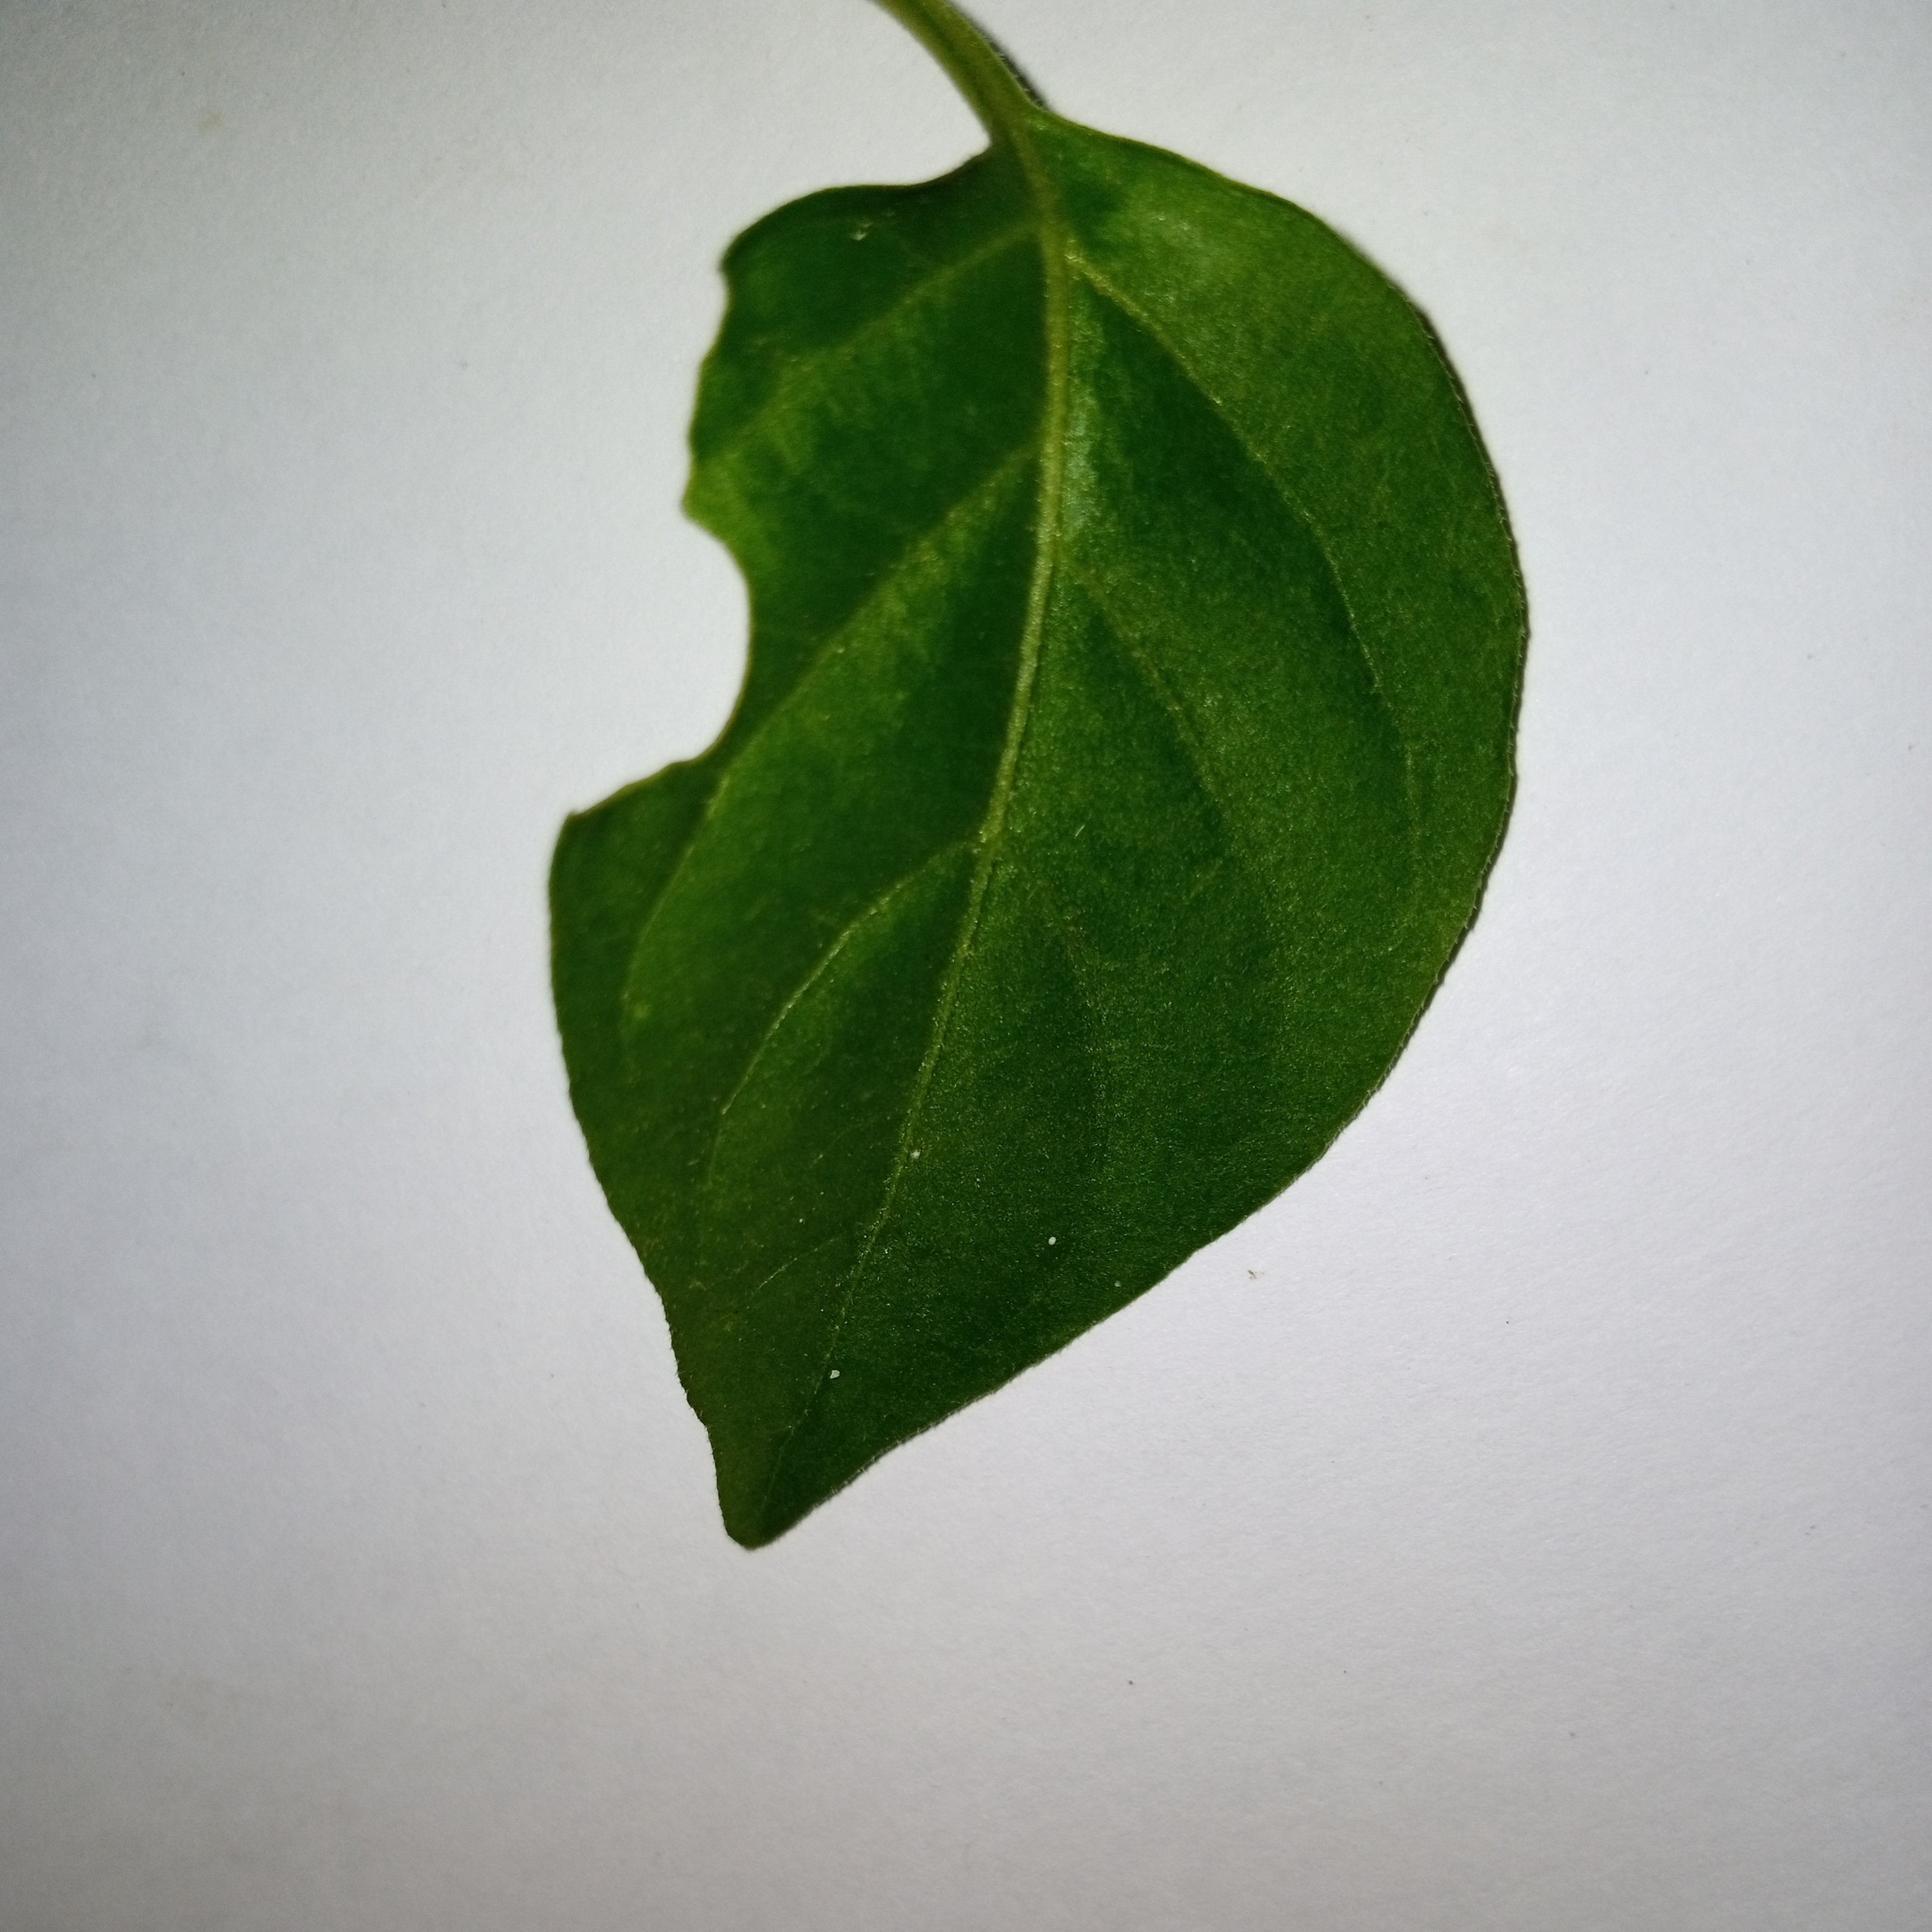Leaf: (368, 101, 1713, 1642)
